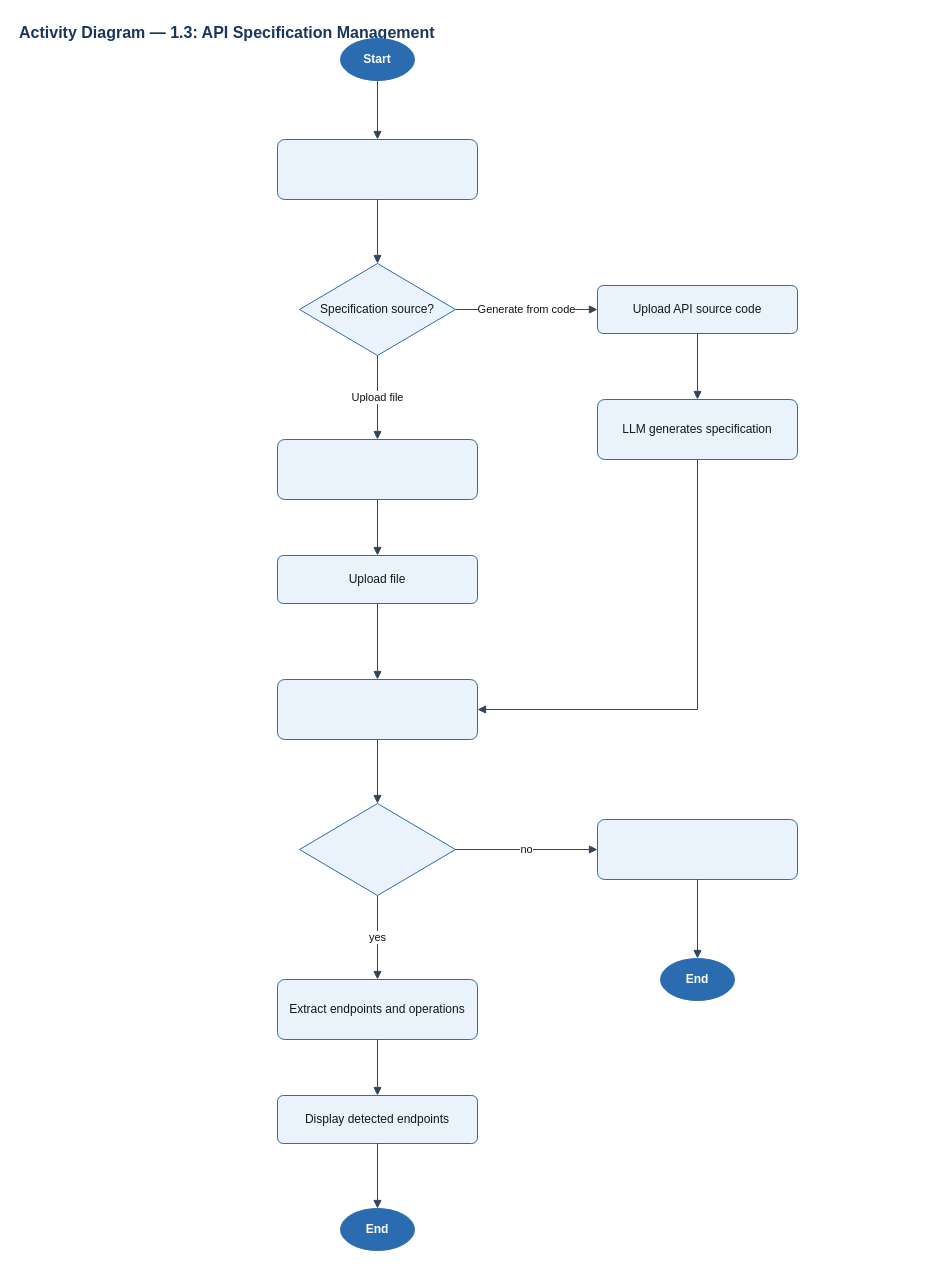
This 934x1268 diagram has some shape labels left out. Here are the shapes that lost their labels. From the top down, the box of each, then its label:
(276, 138, 478, 200): Open API Specification page
(276, 438, 478, 500): Select OpenAPI 3.0 YAML file
(276, 678, 478, 740): Validate and parse specification
(298, 802, 456, 896): Valid specification?
(596, 818, 798, 880): Show error with description
